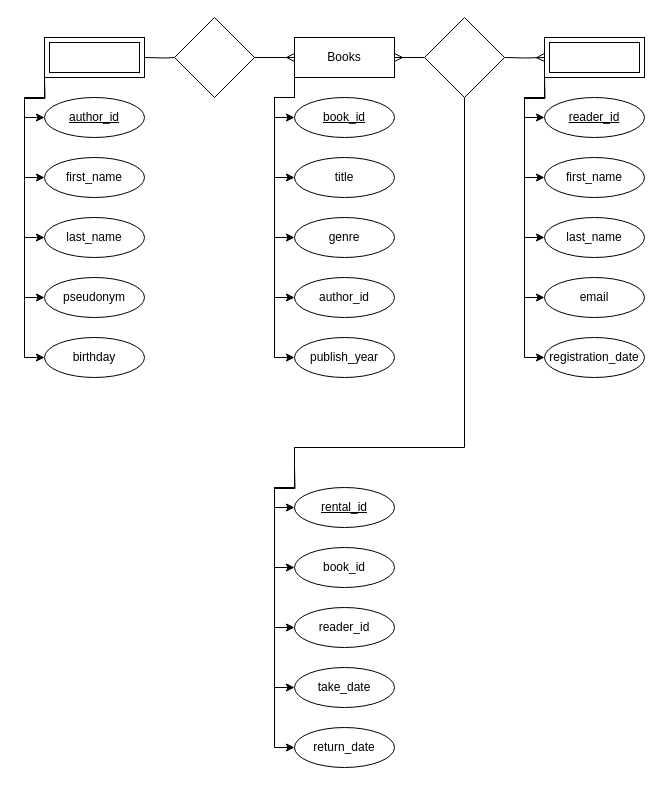
Some shapes in this 662 by 785 pixel diagram are drawn without their labels. Here are the shapes that lost their labels. From the top down, the box of each, then its label:
(44, 36, 144, 78): Authors
(174, 16, 254, 98): write
(424, 16, 504, 98): rental
(544, 36, 644, 78): Readers
